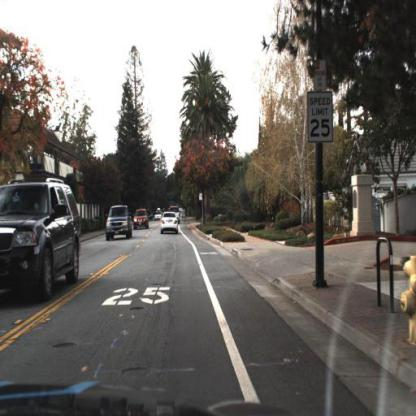car: (0, 177, 84, 306), (102, 202, 134, 242), (158, 207, 180, 237), (132, 205, 150, 232), (168, 205, 182, 226)
